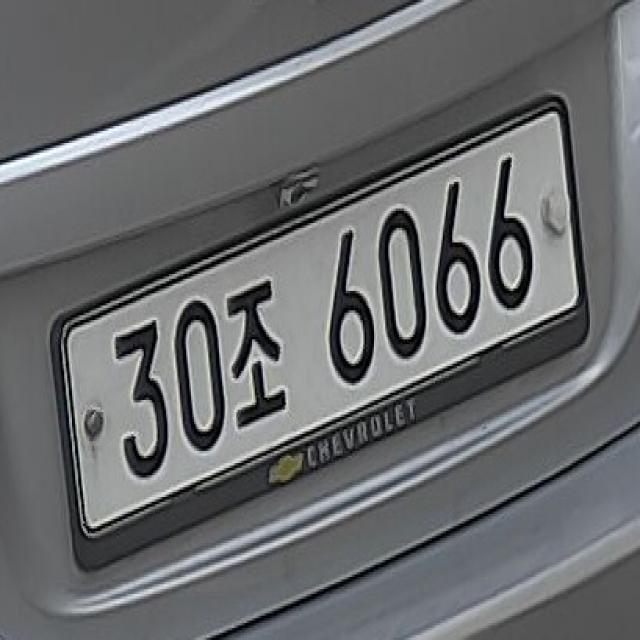0: (172, 296, 225, 453), (374, 206, 427, 361)
3: (108, 318, 171, 480)
6: (429, 175, 482, 337), (326, 226, 377, 390), (485, 155, 535, 315)
jo: (221, 276, 294, 434)
license_plate: (50, 102, 584, 540)
